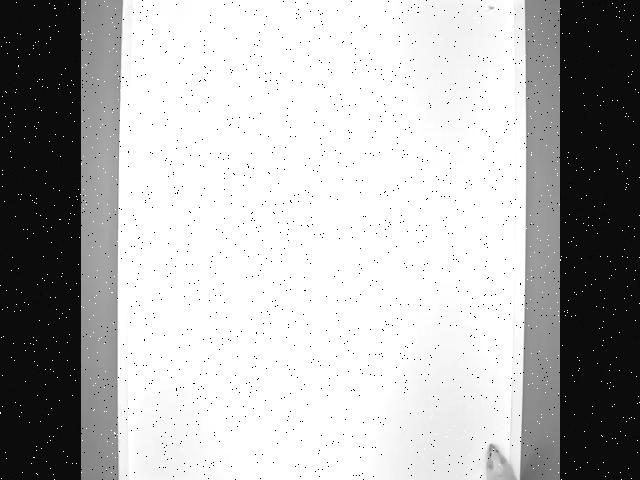Tikus: (481, 436, 521, 480)
